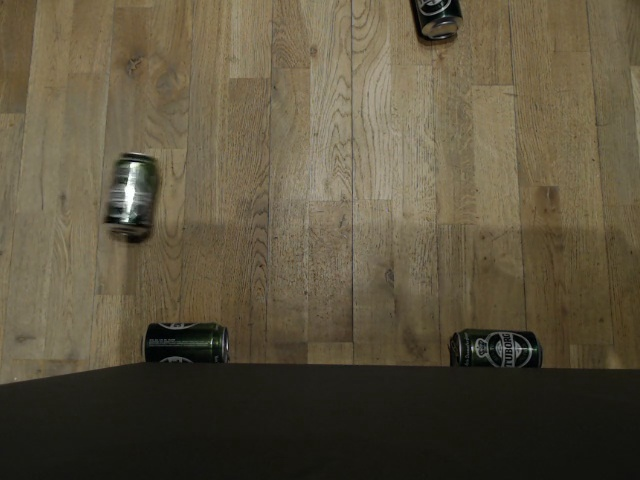beer: (103, 150, 158, 240)
